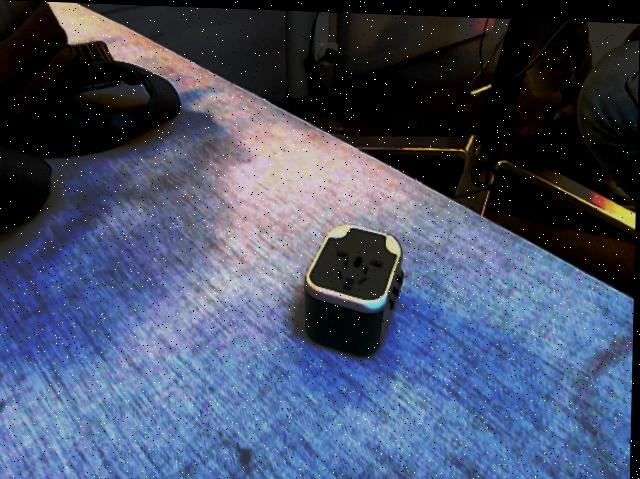adapter: (304, 221, 407, 354)
